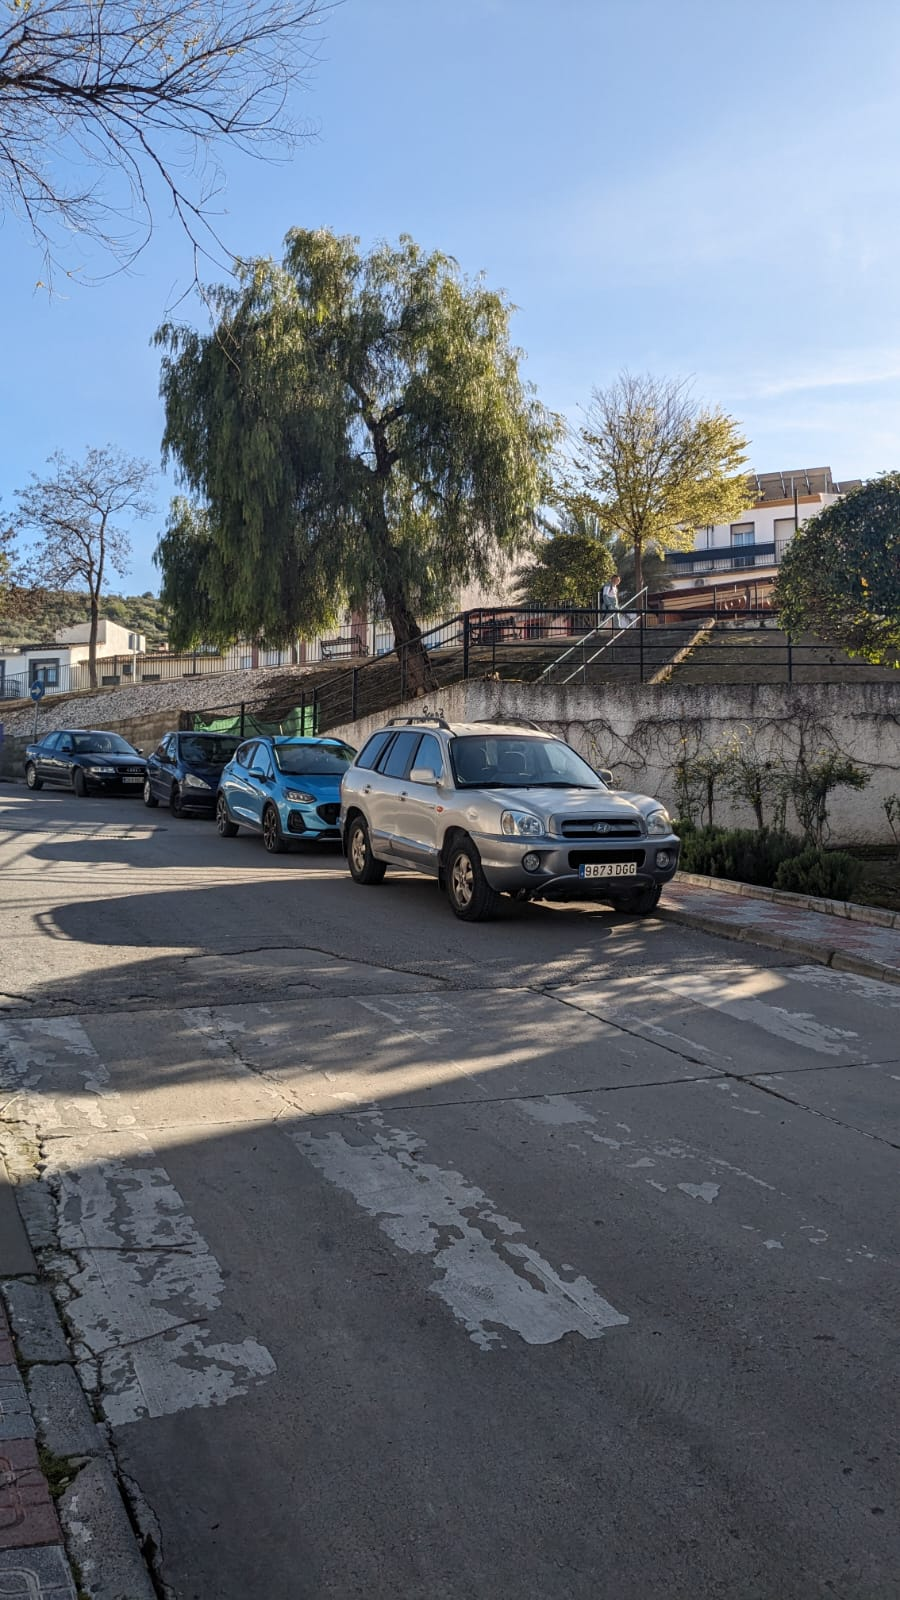car: (336, 704, 680, 948), (225, 727, 345, 873), (23, 711, 143, 816), (141, 719, 225, 831)
